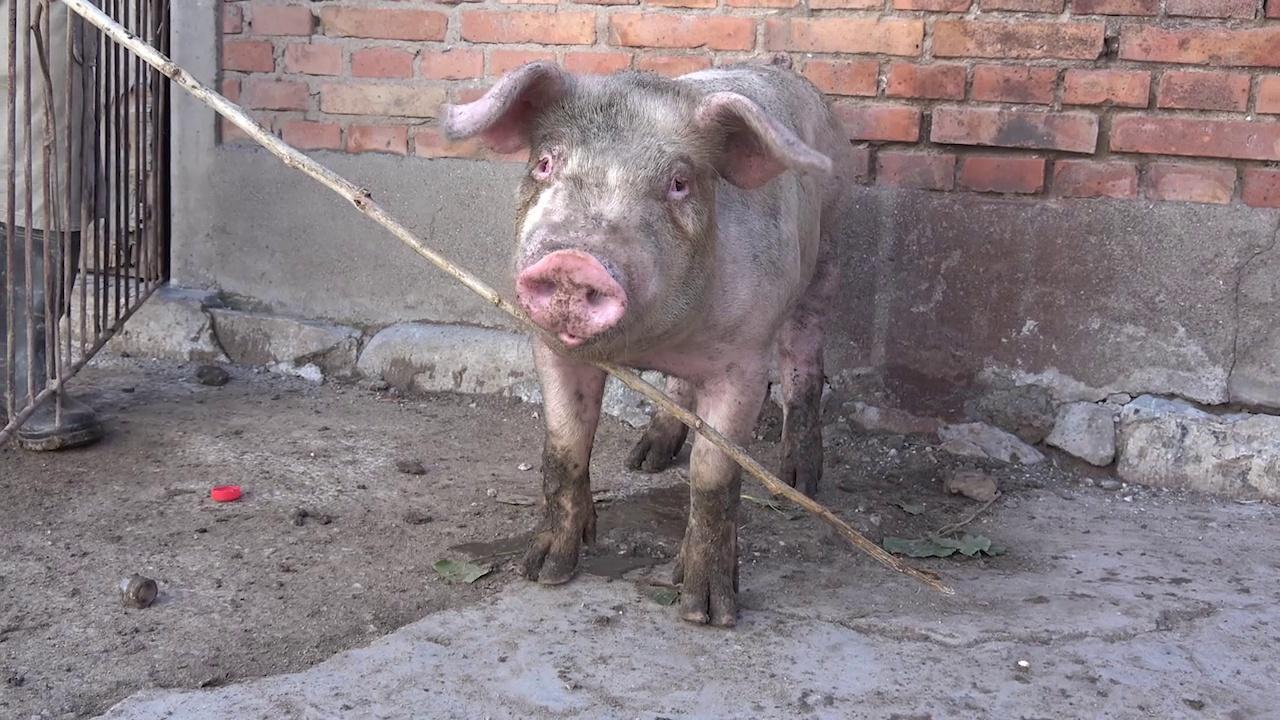Face: (430, 50, 837, 349)
